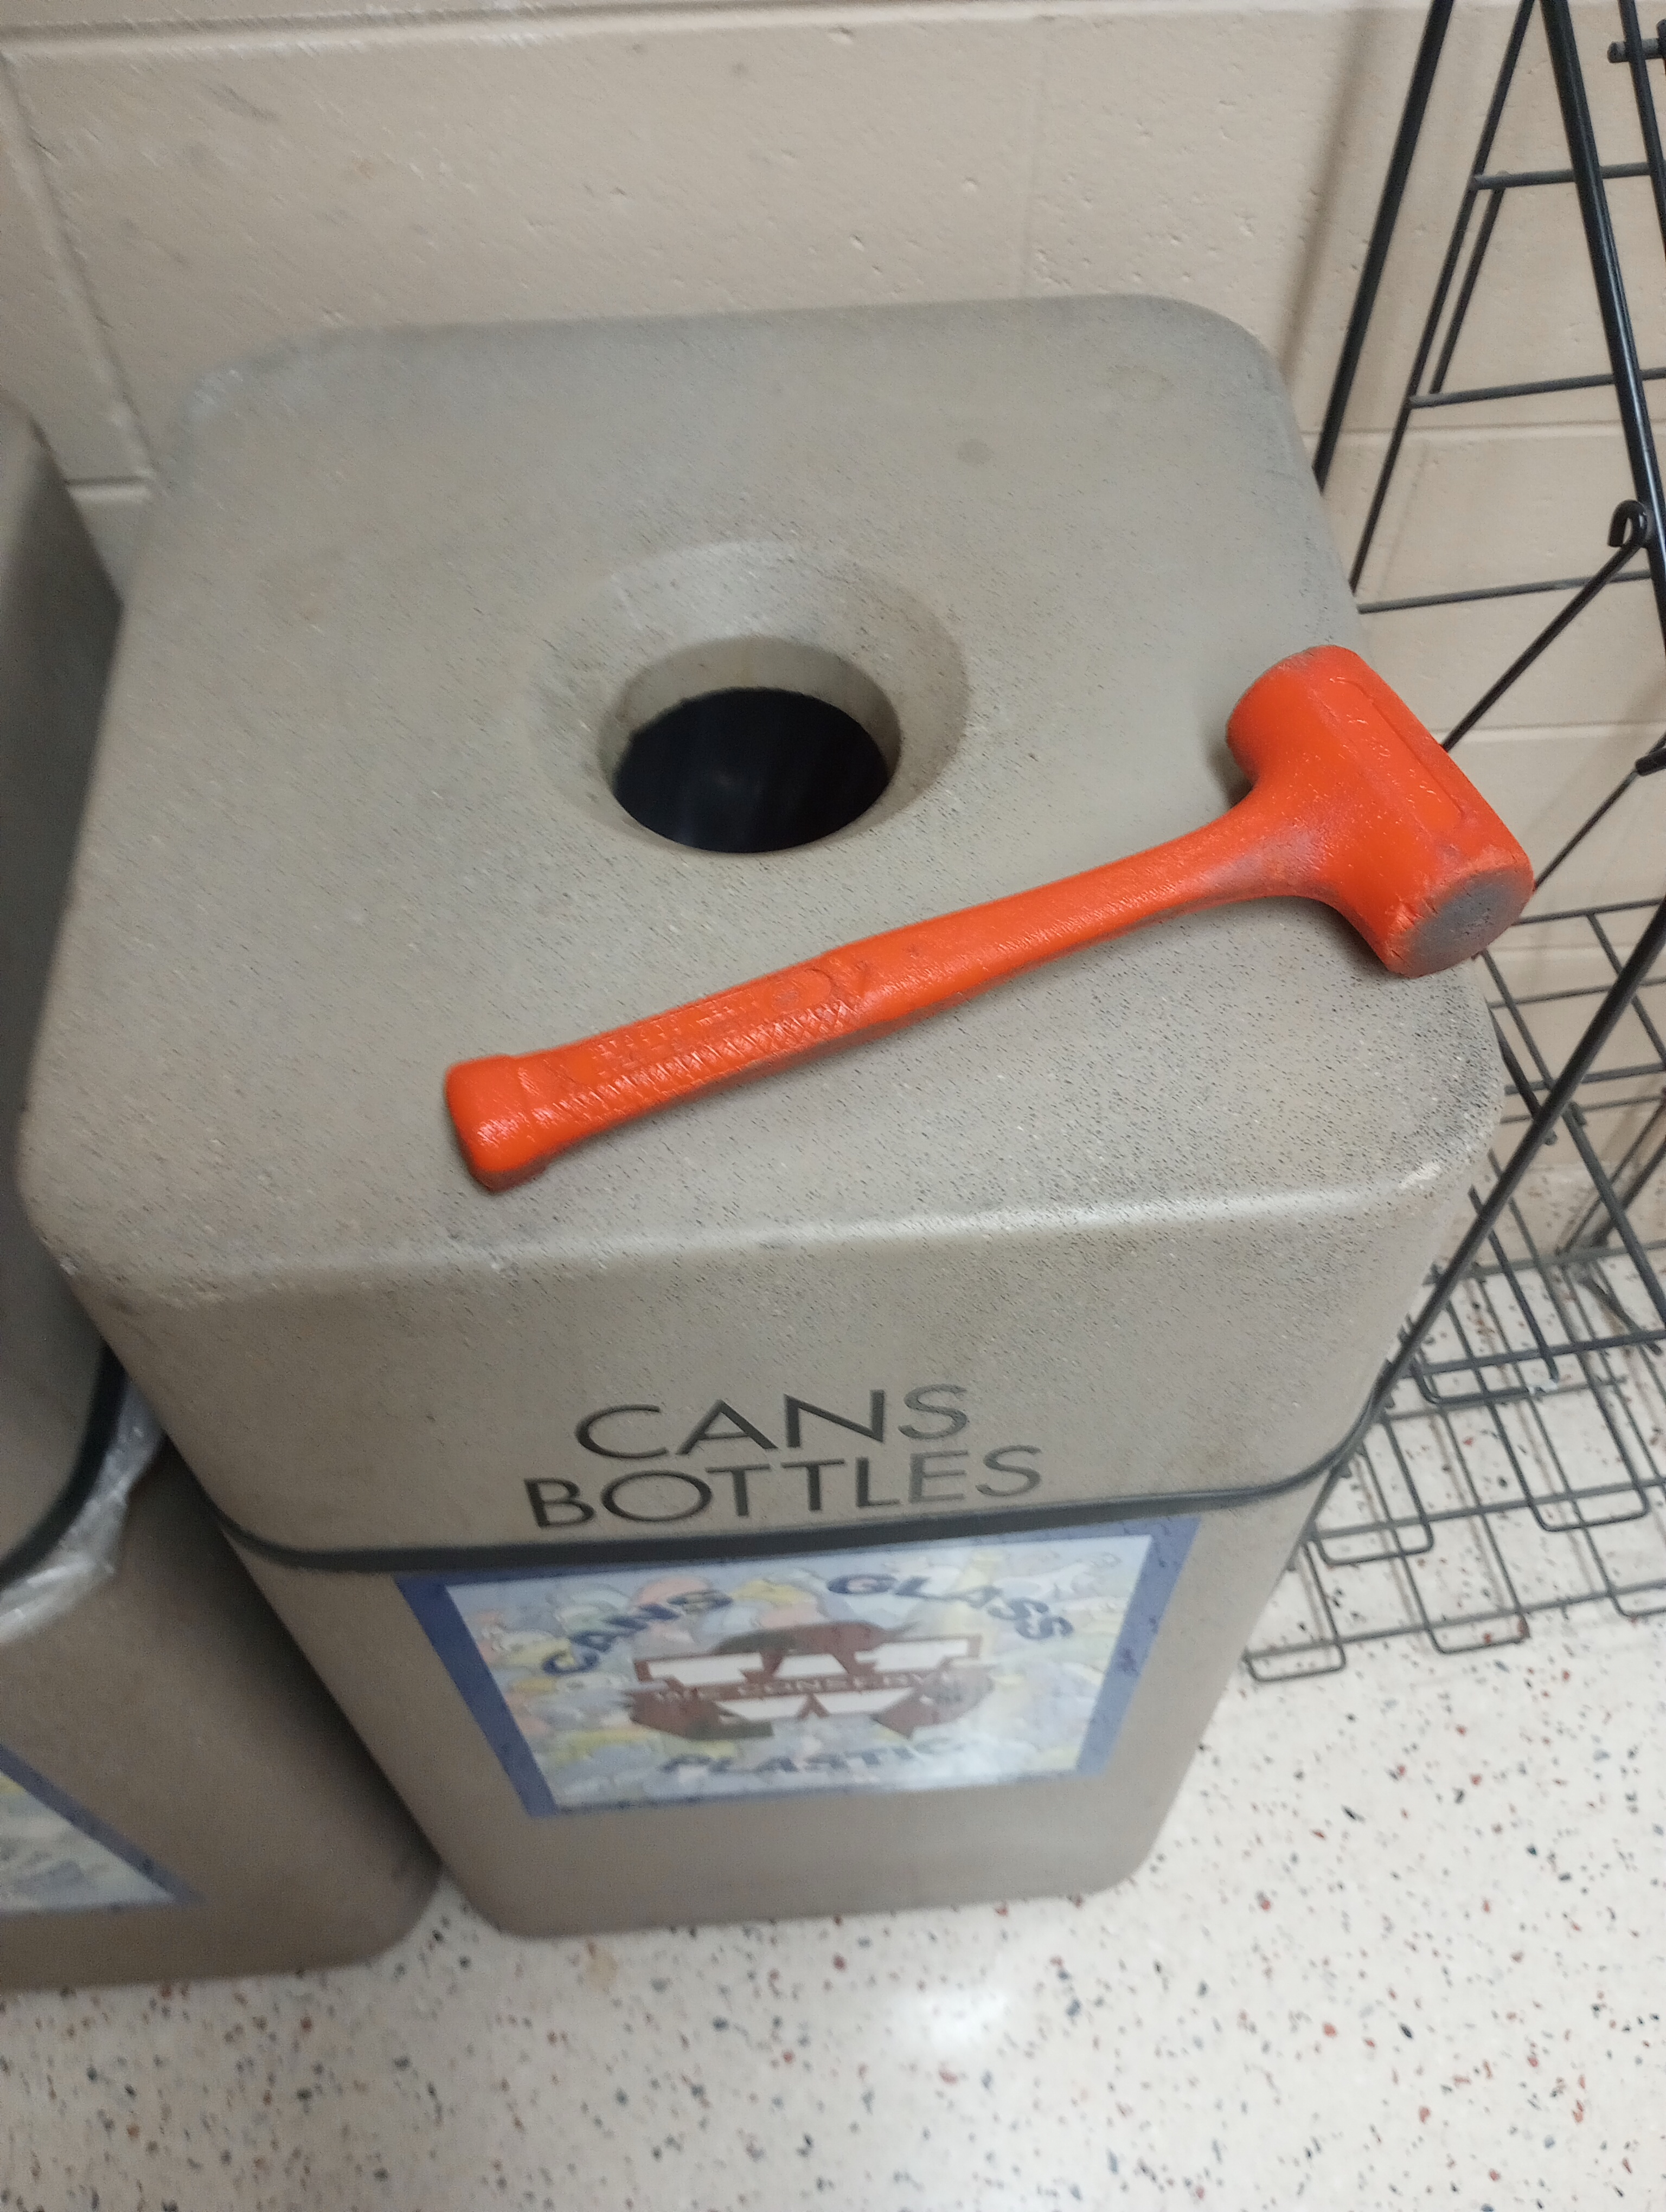bottle: (441, 631, 1536, 1203)
